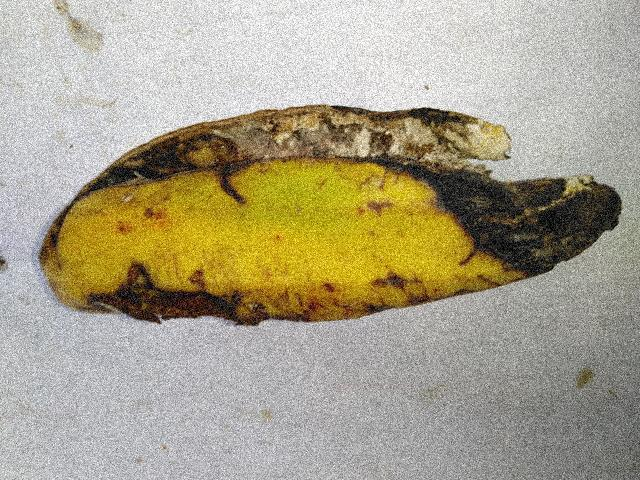rotten: (37, 54, 501, 201), (374, 92, 634, 304), (84, 243, 285, 355)
